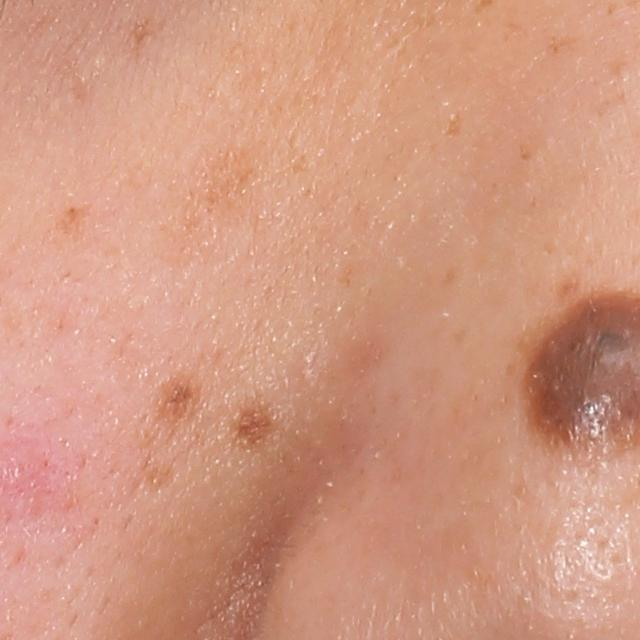melasma: (171, 136, 272, 251), (46, 199, 99, 246), (123, 15, 163, 67), (544, 32, 579, 57), (444, 109, 464, 140)
nevus: (146, 372, 205, 429), (228, 404, 280, 449)
